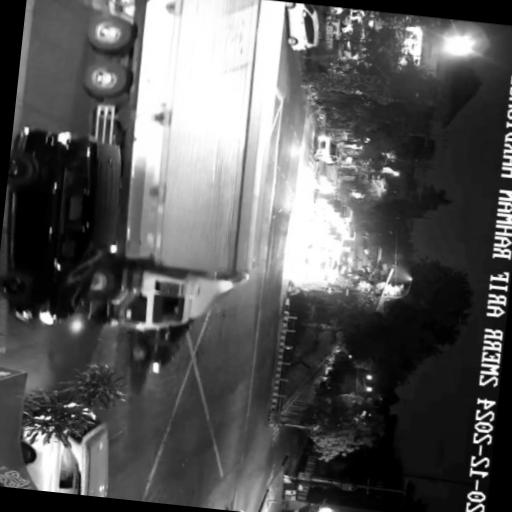car: (0, 124, 124, 330), (282, 2, 328, 57)
truck: (63, 0, 286, 343)
